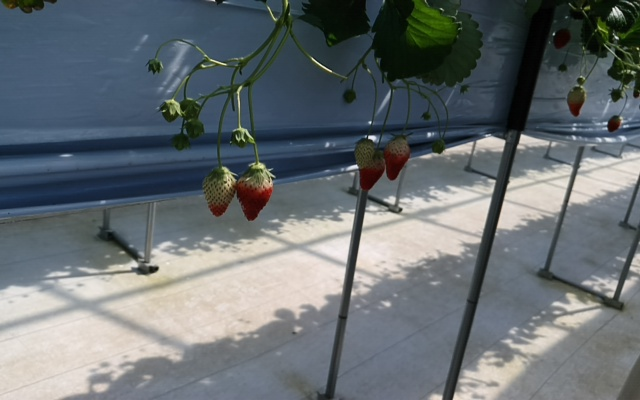GreenStrawberry: (203, 168, 236, 218), (352, 137, 377, 171), (565, 85, 588, 120)
MatureStrawberry: (236, 164, 274, 223), (384, 136, 411, 182), (361, 163, 384, 194), (606, 115, 621, 135)
